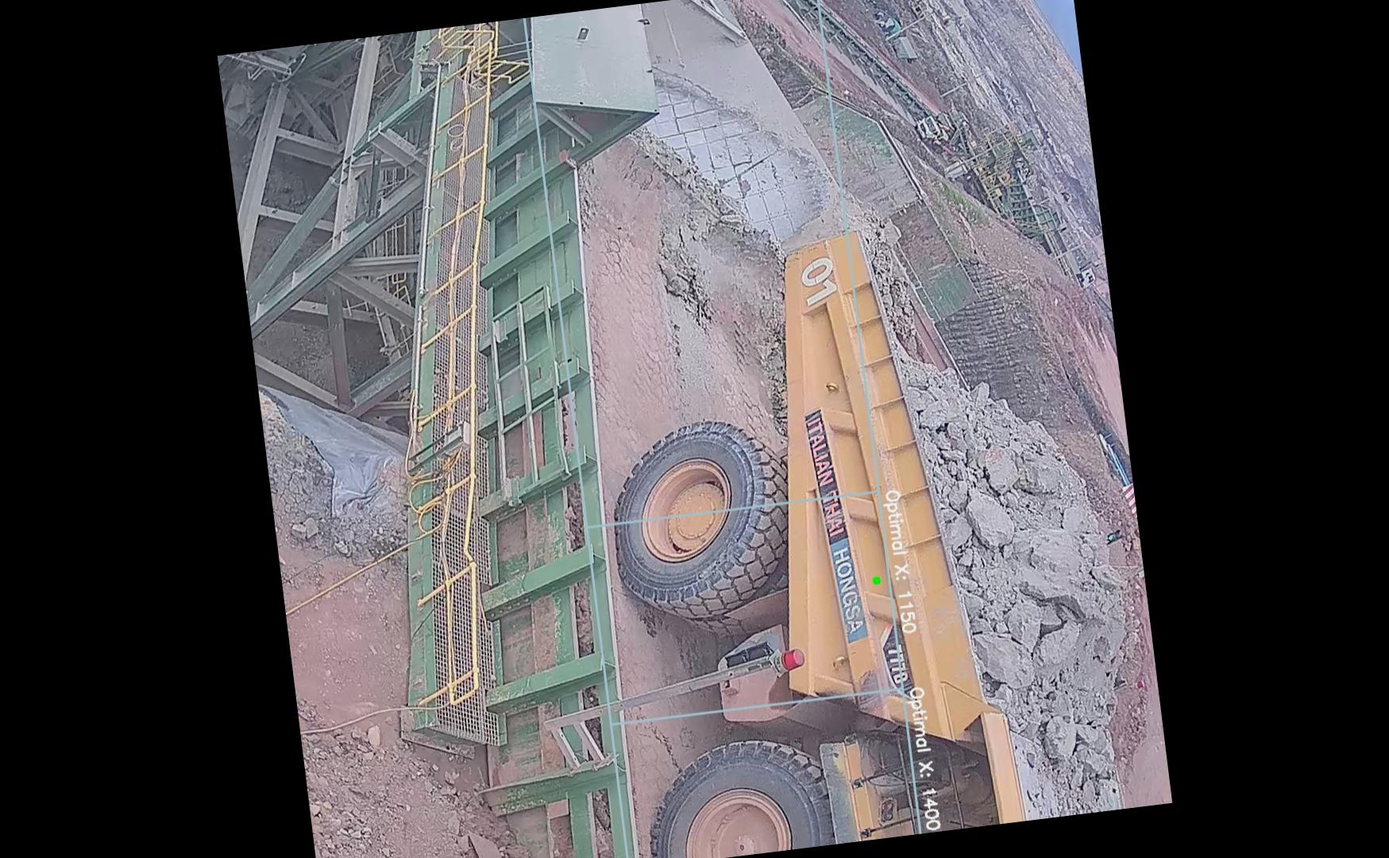company: (799, 400, 874, 657)
full_load: (923, 397, 1140, 729)
mining_truck: (577, 196, 1161, 858)
tail_number: (784, 243, 855, 316)
truck_size: (878, 618, 919, 700)
